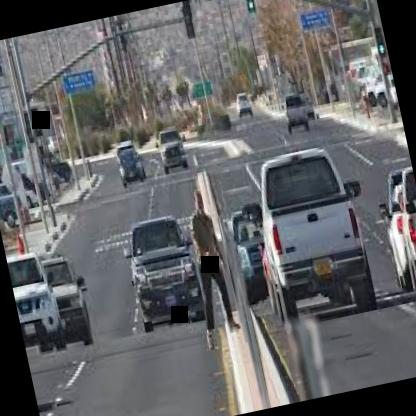car: (235, 128, 384, 346), (117, 200, 212, 342), (3, 232, 90, 384), (37, 238, 109, 354), (216, 187, 282, 302), (376, 173, 416, 284), (147, 115, 196, 186), (362, 60, 404, 134), (392, 178, 416, 298), (36, 133, 80, 193), (112, 142, 149, 196), (0, 167, 30, 228), (278, 90, 310, 136), (223, 75, 250, 123)
